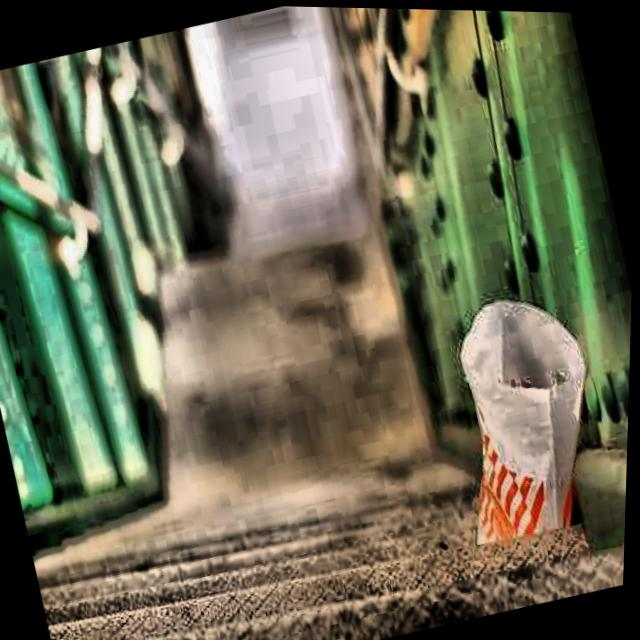Plastic: (423, 260, 634, 582)
